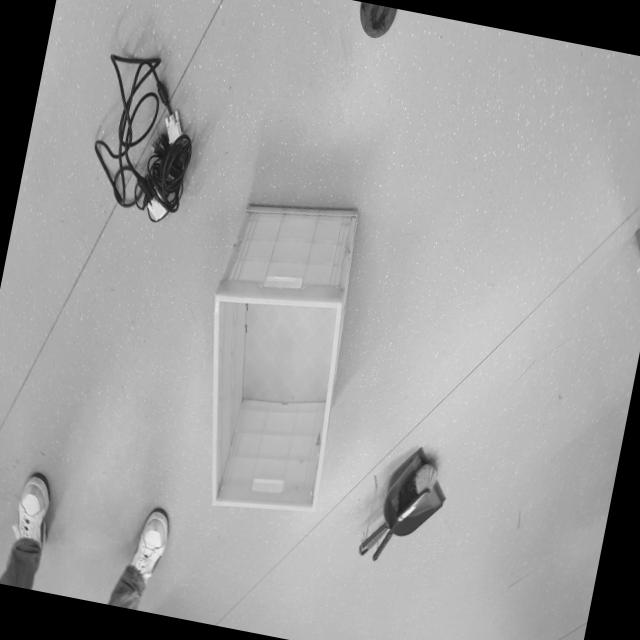box: (168, 181, 374, 543)
